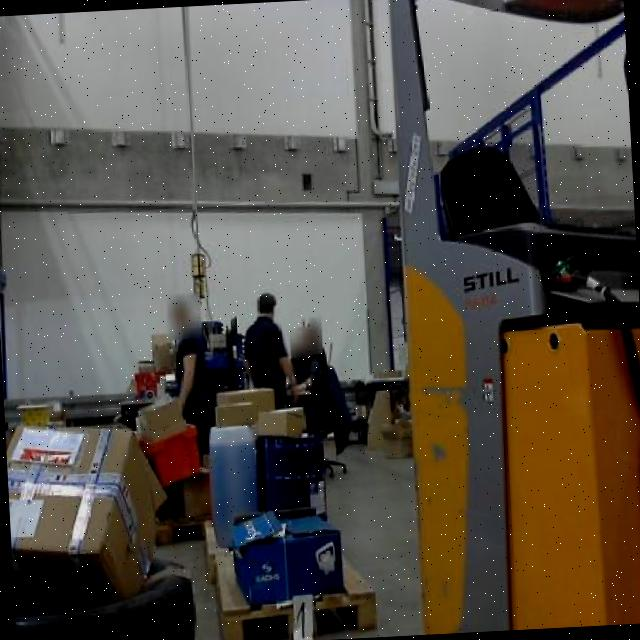pallet: (212, 588, 400, 640)
